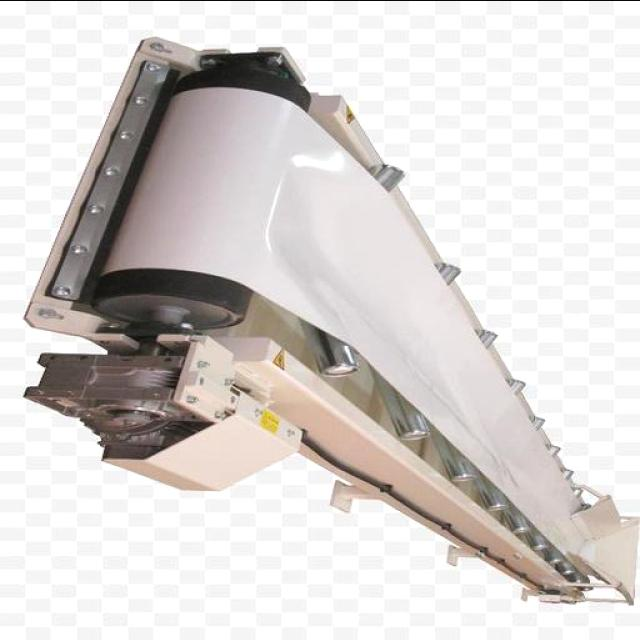conveyor: (103, 86, 588, 577)
